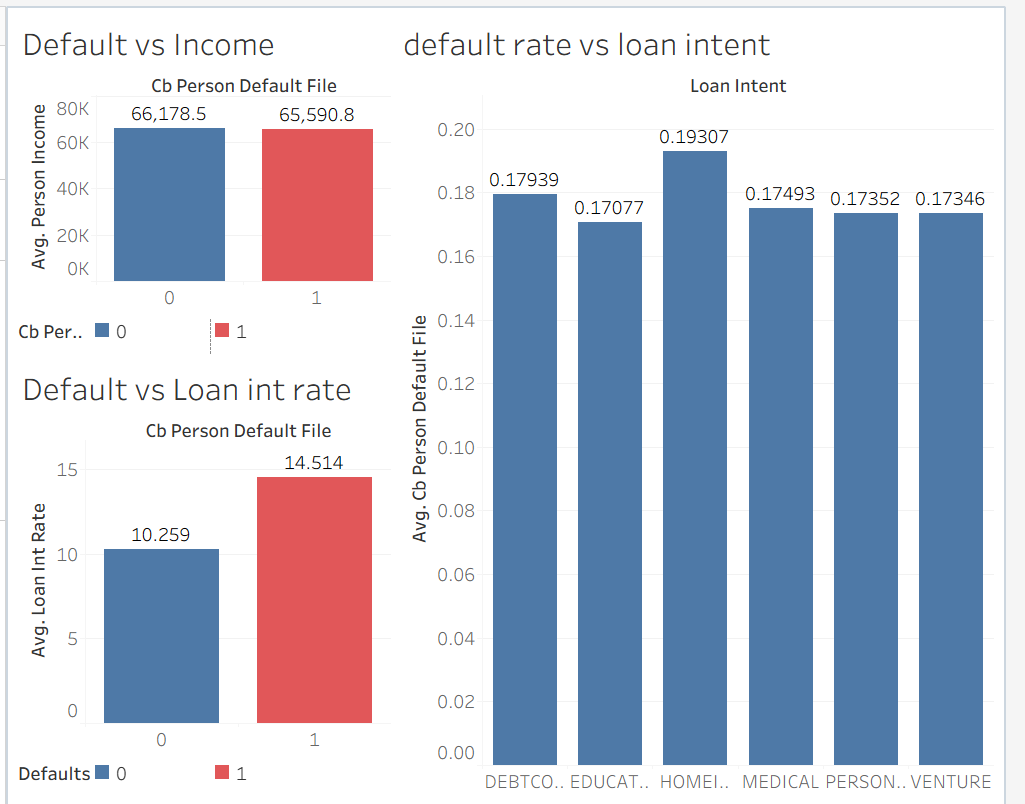

Layout of this report page (visuals, bound fields, positions):
{"tool":"tableau","page":{"name":"Dashboard 1","canvas":[1000,800],"ordinal":0},"visuals":[{"type":"worksheet","title":"default vs income","mark":"Automatic","rows":["person_income"],"cols":["cb_perso0_default_o0_file"],"box":[8,8,359,300]},{"type":"worksheet","title":"default rate vs loan intent","mark":"Automatic","rows":["cb_perso0_default_o0_file"],"cols":["loan_intent"],"box":[367,8,625,784]},{"type":"legend","title":"default vs income","param":"[federated.0nc67kj1ypxa6y1h3qsxx1n38otw].[none:cb_perso0_default_o0_file:ok]","box":[8,308,359,45]},{"type":"worksheet","title":"Default vs Loan int rate","mark":"Automatic","rows":["loan_int_rate"],"cols":["cb_perso0_default_o0_file"],"box":[8,353,359,397]},{"type":"legend","title":"Default vs Loan int rate","param":"[federated.0nc67kj1ypxa6y1h3qsxx1n38otw].[none:cb_perso0_default_o0_file:ok]","box":[8,750,359,42]}]}

Visuals, with their boxes in screenshot pixels (x1, y1, x2, y2), scaled from the page's 1000x800 canvas onto the 1025x804 screenshot:
"default vs income" worksheet: Rect(8, 8, 376, 310)
"default rate vs loan intent" worksheet: Rect(376, 8, 1017, 796)
"default vs income" legend: Rect(8, 310, 376, 355)
"Default vs Loan int rate" worksheet: Rect(8, 355, 376, 754)
"Default vs Loan int rate" legend: Rect(8, 754, 376, 796)
